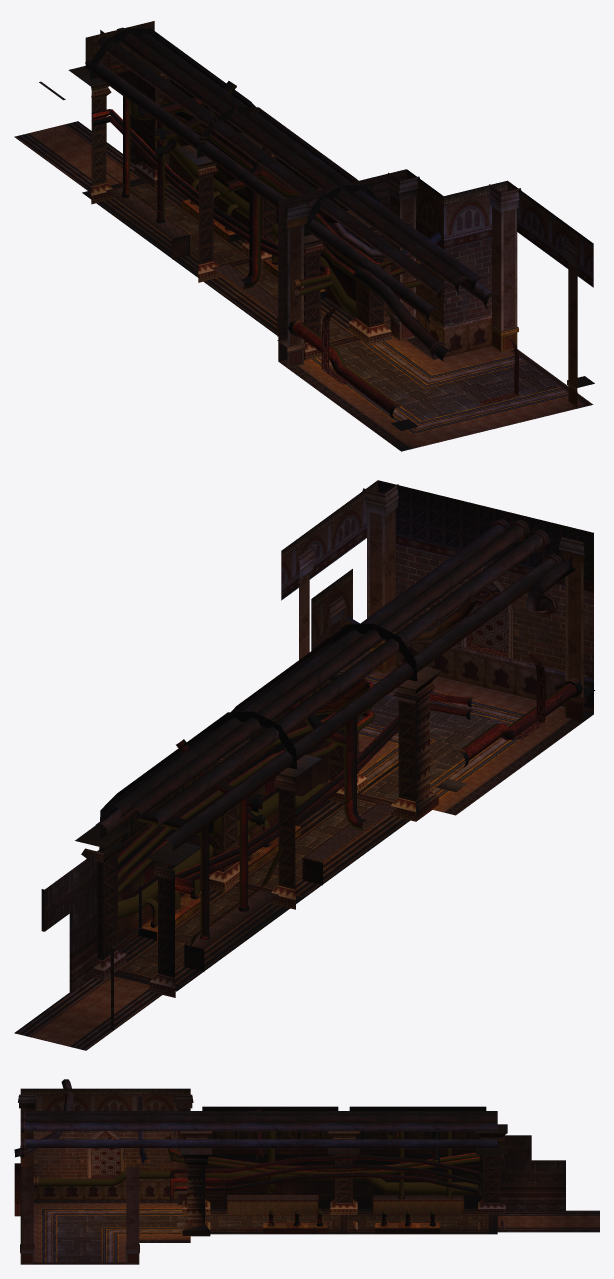
The model's file is 02-Hall.gltf.
3 views of the same model, one above another, from view 1: azimuth 30°, elevation 25°; view 2: azimuth 150°, elevation 25°; view 3: azimuth 270°, elevation 25° (orthographic). The views are drawn at different scales.
Visible parts, largest first — view 1: stg031_o34_Mesh_0002, stg031_o32_Mesh_0002, stg031_o32_Mesh_0081, stg031_o34_Mesh_0027, stg031_o34_Mesh_0034, stg031_o32_Mesh_0078, stg031_o34_Mesh_0008, stg031_o34_Mesh_0015, stg031_g34_Mesh_0000, stg031_o34_Mesh_0021, stg031_o34_Mesh_0000, stg031_o34_Mesh_0013 (+10 smaller); view 2: stg031_o34_Mesh_0002, stg031_o34_Mesh_0027, stg031_o32_Mesh_0002, stg031_o34_Mesh_0034, stg031_o32_Mesh_0081, stg031_o34_Mesh_0000, stg031_o34_Mesh_0021, stg031_o32_Mesh_0078, stg031_o34_Mesh_0013, stg031_g34_Mesh_0000, stg031_o34_Mesh_0008, stg031_o34_Mesh_0015 (+9 smaller); view 3: stg031_o34_Mesh_0002, stg031_o34_Mesh_0021, stg031_o32_Mesh_0002, stg031_o34_Mesh_0034, stg031_g34_Mesh_0000, stg031_o32_Mesh_0081, stg031_o34_Mesh_0000, stg031_o34_Mesh_0013, stg031_o34_Mesh_0008, stg031_o32_Mesh_0078, stg031_o34_Mesh_0015, stg031_o34_Mesh_0017 (+9 smaller).
Part boxes in pixels (bbox=[...]): stg031_o34_Mesh_0002: bbox=[85, 27, 568, 434]; stg031_o32_Mesh_0002: bbox=[39, 21, 559, 420]; stg031_o32_Mesh_0081: bbox=[14, 28, 380, 335]; stg031_o34_Mesh_0027: bbox=[91, 44, 438, 451]; stg031_o34_Mesh_0034: bbox=[91, 81, 421, 412]; stg031_o32_Mesh_0078: bbox=[29, 124, 586, 448]; stg031_o34_Mesh_0008: bbox=[406, 169, 593, 277]; stg031_o34_Mesh_0015: bbox=[290, 195, 577, 386]; stg031_g34_Mesh_0000: bbox=[103, 85, 420, 406]; stg031_o34_Mesh_0021: bbox=[105, 64, 356, 336]; stg031_o34_Mesh_0000: bbox=[68, 59, 391, 360]; stg031_o34_Mesh_0013: bbox=[416, 238, 491, 325]; stg031_o34_Mesh_0002: bbox=[95, 524, 575, 851]; stg031_o34_Mesh_0027: bbox=[97, 480, 593, 977]; stg031_o32_Mesh_0002: bbox=[41, 693, 511, 987]; stg031_o34_Mesh_0034: bbox=[118, 678, 576, 946]; stg031_o32_Mesh_0081: bbox=[14, 623, 417, 1050]; stg031_o34_Mesh_0000: bbox=[75, 652, 441, 997]; stg031_o34_Mesh_0021: bbox=[99, 681, 397, 971]; stg031_o32_Mesh_0078: bbox=[30, 666, 570, 1046]; stg031_o34_Mesh_0013: bbox=[395, 545, 593, 678]; stg031_g34_Mesh_0000: bbox=[118, 683, 569, 946]; stg031_o34_Mesh_0008: bbox=[281, 480, 377, 648]; stg031_o34_Mesh_0015: bbox=[299, 509, 580, 697]; stg031_o34_Mesh_0002: bbox=[14, 1079, 497, 1262]; stg031_o34_Mesh_0021: bbox=[205, 1131, 482, 1233]; stg031_o32_Mesh_0002: bbox=[57, 1135, 565, 1262]; stg031_o34_Mesh_0034: bbox=[38, 1110, 482, 1223]; stg031_g34_Mesh_0000: bbox=[38, 1131, 482, 1214]; stg031_o32_Mesh_0081: bbox=[202, 1106, 599, 1234]; stg031_o34_Mesh_0000: bbox=[180, 1124, 507, 1236]; stg031_o34_Mesh_0013: bbox=[33, 1131, 177, 1178]; stg031_o34_Mesh_0008: bbox=[20, 1088, 190, 1110]; stg031_o32_Mesh_0078: bbox=[33, 1203, 599, 1262]; stg031_o34_Mesh_0015: bbox=[20, 1108, 190, 1249]; stg031_o34_Mesh_0017: bbox=[228, 1195, 462, 1213].
Bounding box in the file's own units: 16.68 × 12.51 × 57.25.
Materials: 24 (23 with a texture image).
